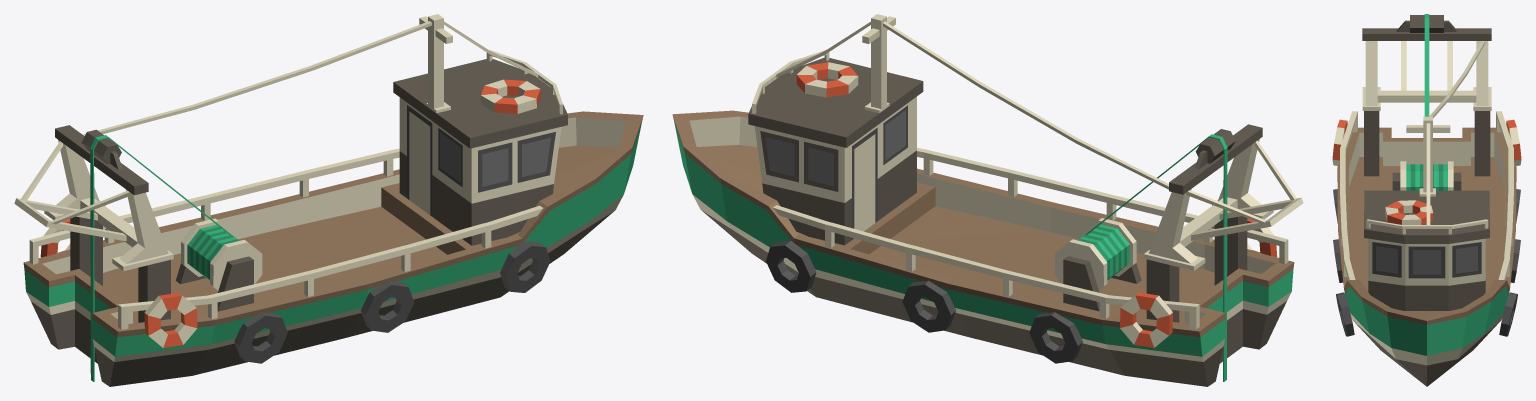
The model's file is FishingBoat.fbx.
The picture shows the model from 3 angles, left to right: view 1: azimuth 30°, elevation 25°; view 2: azimuth 150°, elevation 25°; view 3: azimuth 270°, elevation 25°; orthographic projection. The views are drawn at different scales.
Visible parts, largest first — view 1: FishingBoat; view 2: FishingBoat; view 3: FishingBoat.
Boxes of the visible parts, x1,y1,x2,y2 form: FishingBoat: (14,14,643,386); FishingBoat: (672,14,1303,386); FishingBoat: (1332,14,1521,386).
Size of the model in its own units: 0.9785 by 0.4255 by 0.3205.
